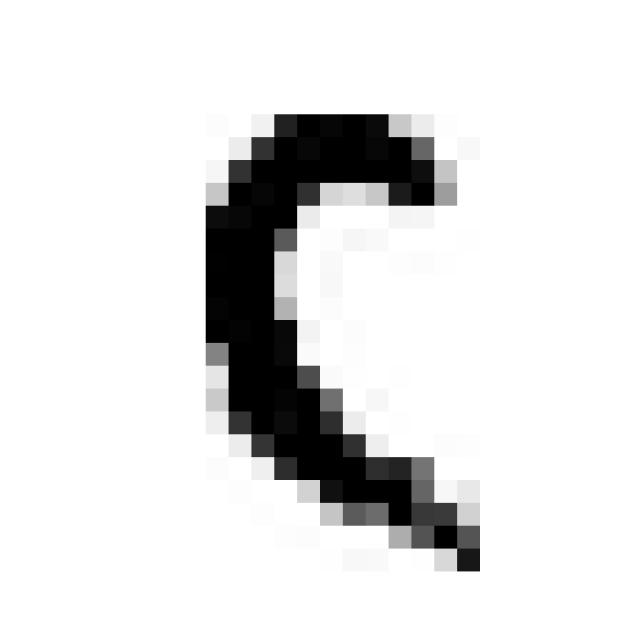2 -two-: (174, 89, 503, 592)
